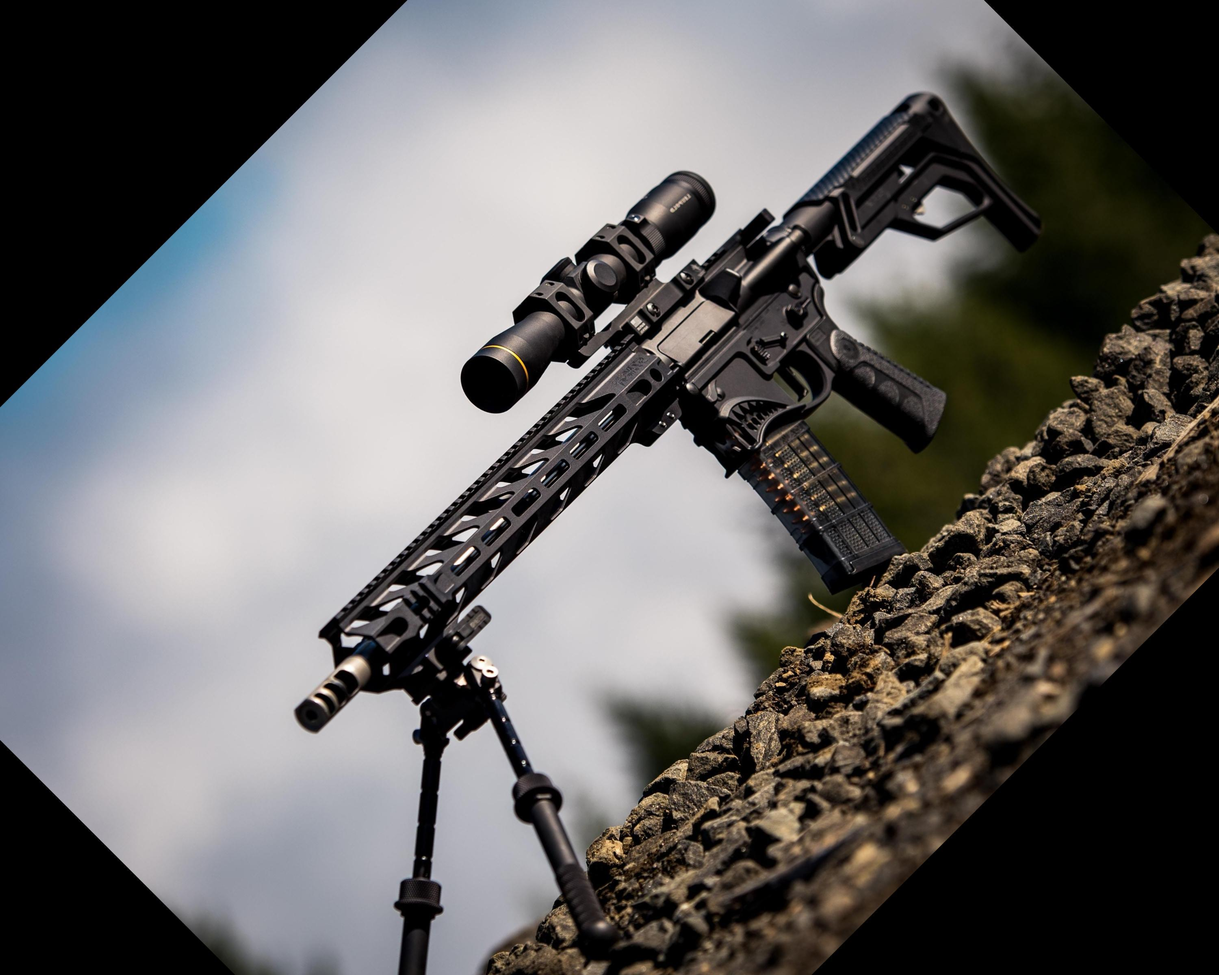larga: (291, 91, 1047, 975)
